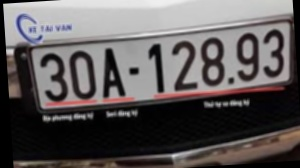Bien-so: (27, 15, 296, 115)
